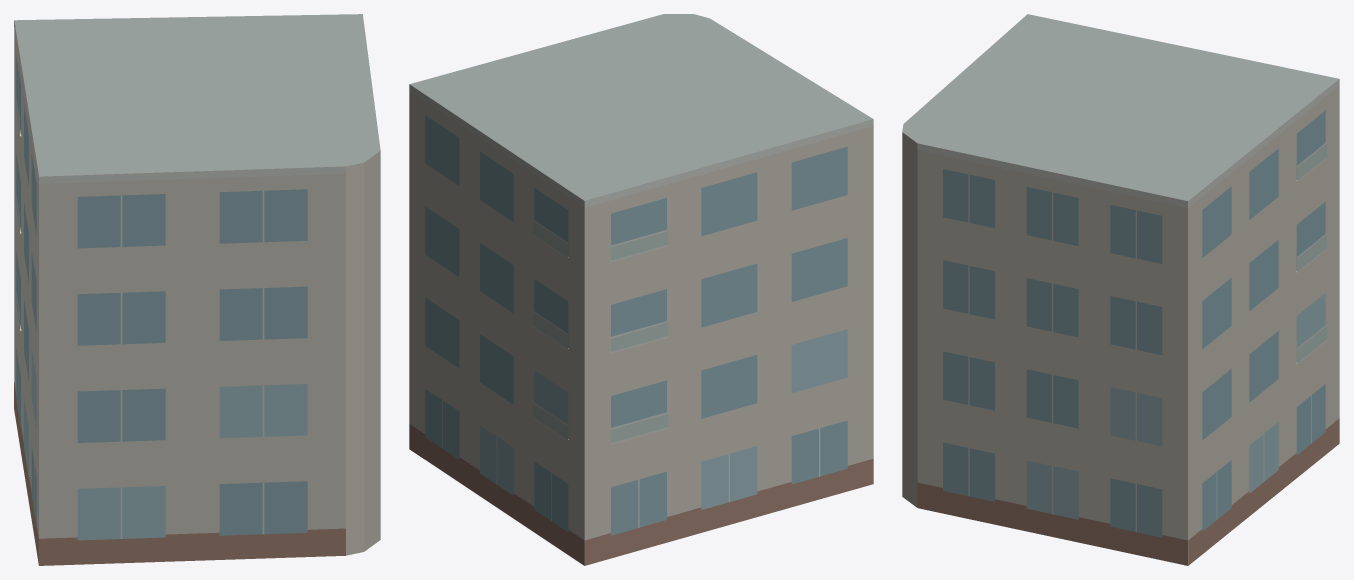
Rendered from survey-upis-33002881.glb.
The picture shows the model from 3 angles, left to right: view 1: azimuth 30°, elevation 25°; view 2: azimuth 150°, elevation 25°; view 3: azimuth 270°, elevation 25°; orthographic projection. The views are drawn at different scales.
Parts seen in each view (by area): view 1: survey-upis-33002881.tmp; view 2: survey-upis-33002881.tmp; view 3: survey-upis-33002881.tmp.
Part boxes in pixels (x1,y1,x2,y2): survey-upis-33002881.tmp: (14,14,380,565); survey-upis-33002881.tmp: (409,14,873,565); survey-upis-33002881.tmp: (902,14,1339,565).
Size of the model in its own units: 14.32 by 13 by 14.13.
